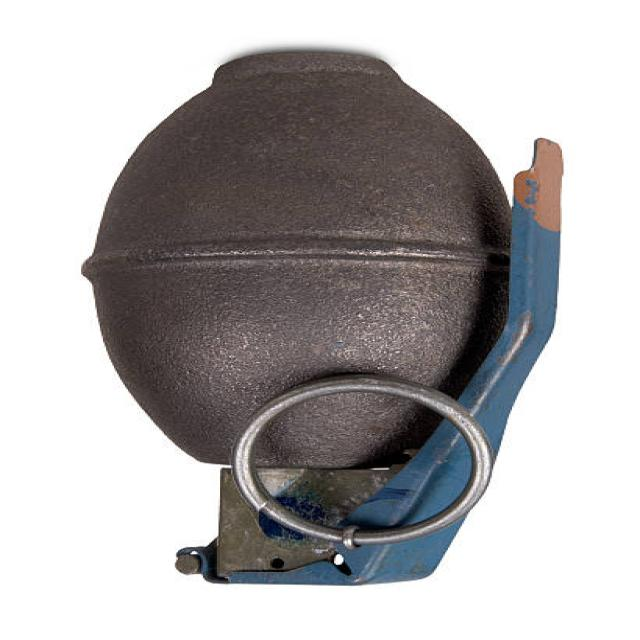grenade: (74, 32, 592, 596)
